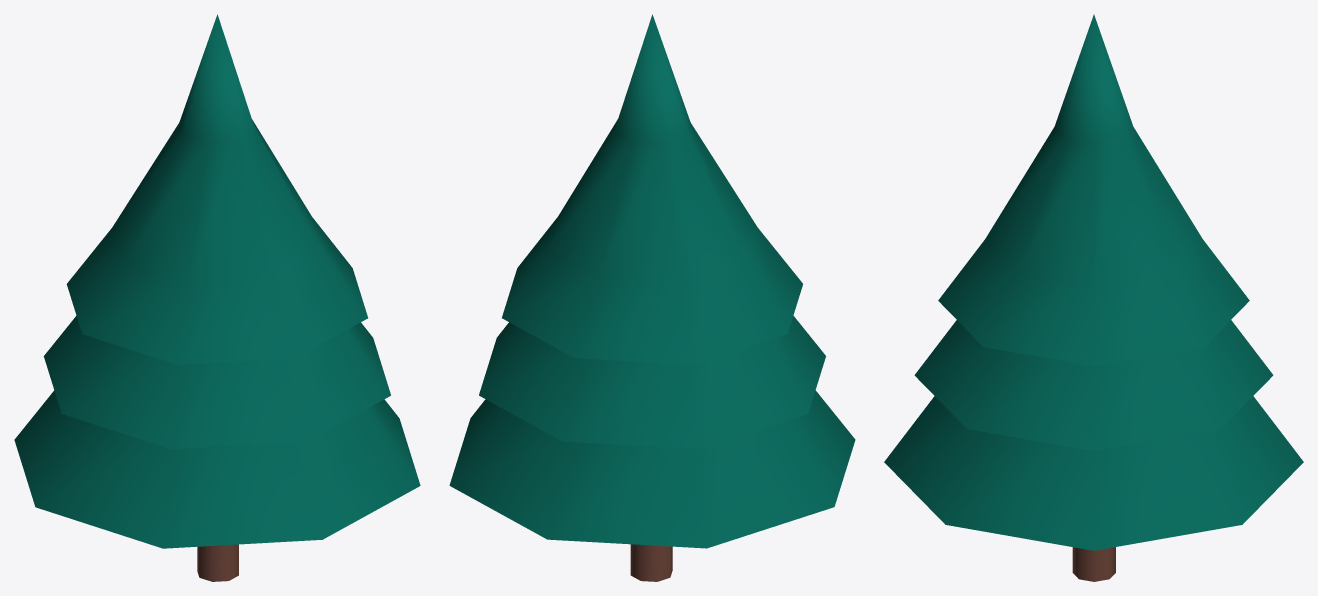
File: firtree_3_world_ap_0_lev1.glb
3 renders of one model, left to right at view 1: azimuth 30°, elevation 25°; view 2: azimuth 150°, elevation 25°; view 3: azimuth 270°, elevation 25°, orthographic.
Visible parts, largest first — view 1: firtree_3_world_ap_0_lev1; view 2: firtree_3_world_ap_0_lev1; view 3: firtree_3_world_ap_0_lev1.
Part boxes in pixels (box(x1,y1,x2,y2)): firtree_3_world_ap_0_lev1: box(14, 14, 420, 581); firtree_3_world_ap_0_lev1: box(449, 14, 855, 581); firtree_3_world_ap_0_lev1: box(884, 14, 1303, 581).
Size of the model in its own units: 0.7994 by 1.17 by 0.7994.
Materials: 1 (1 with a texture image).
